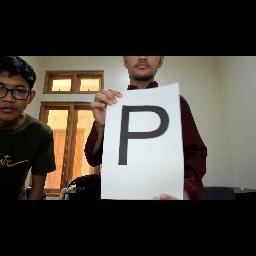p: (116, 104, 172, 170)
